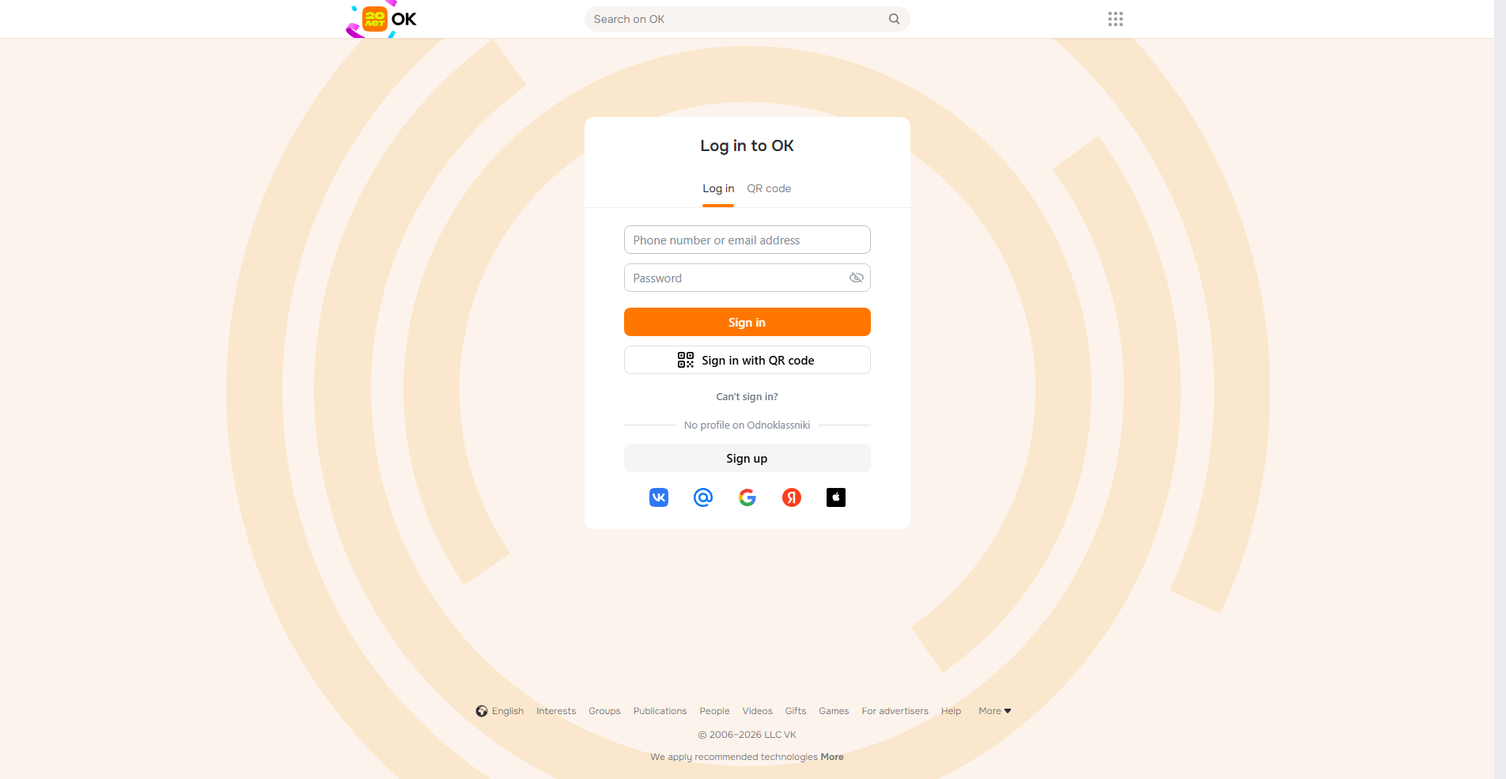button: (624, 308, 870, 336), (624, 346, 870, 374), (624, 444, 870, 472), (1090, 0, 1141, 38), (842, 263, 870, 292), (716, 390, 778, 403), (974, 703, 1019, 719), (475, 704, 524, 718), (882, 6, 907, 32), (734, 485, 760, 510), (646, 485, 671, 510), (690, 485, 715, 510), (779, 485, 804, 510), (823, 485, 848, 510), (979, 704, 1014, 718), (1000, 51, 1019, 70)
input: (584, 6, 910, 32), (624, 225, 870, 254), (624, 263, 842, 292)
label: (584, 6, 910, 32)
link: (368, 58, 558, 101), (899, 662, 1018, 694), (899, 573, 1018, 596), (899, 551, 1018, 573), (899, 596, 1018, 618), (899, 618, 1018, 640), (899, 640, 1018, 662), (650, 751, 844, 763), (353, 0, 409, 38), (747, 169, 791, 207), (703, 169, 734, 207), (862, 705, 928, 717), (633, 705, 687, 717), (475, 705, 524, 717), (536, 705, 576, 717), (589, 705, 621, 717), (742, 705, 773, 717), (700, 705, 730, 717), (819, 705, 849, 717), (785, 705, 806, 717), (941, 705, 961, 717), (0, 0, 1, 1)
